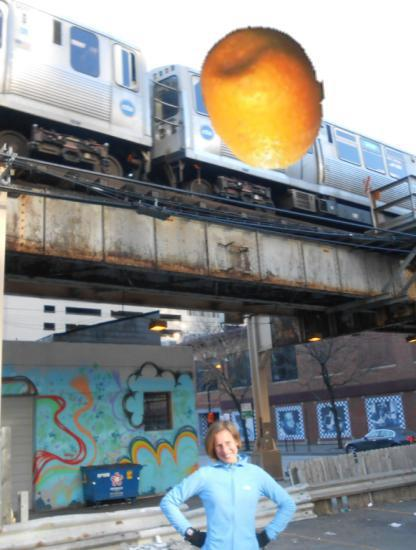Kumquats: (189, 23, 339, 173)
